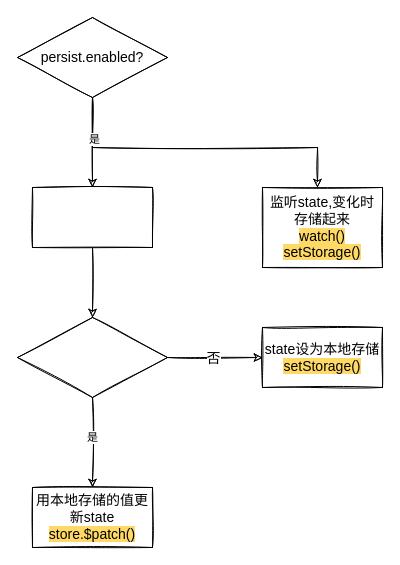
Image size: 400x565. Some labels were removed from this diagram. The box of each missing label's shape, as (x1, y1, x2, y2) in pixels:
本地存储是否有值？: (16, 316, 168, 398)
获取本地存储内容 getStorage(): (32, 186, 152, 248)
